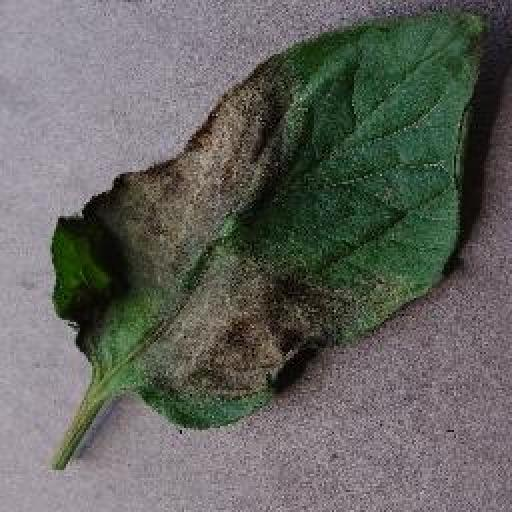disease_tomato: (50, 0, 488, 432)
